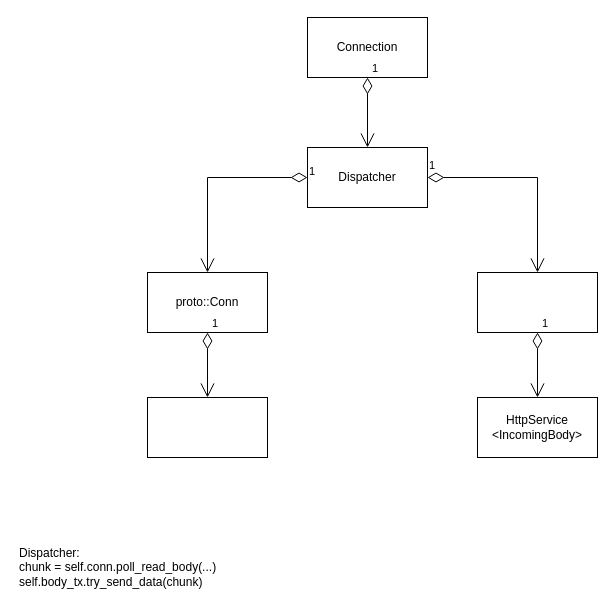
Some shapes in this 615 by 615 pixel diagram are drawn without their labels. The centre of each missing label's shape, as x and y in pixels:
"dispatch::Server" goes at (537,302).
"TokioIO" goes at (207,427).
